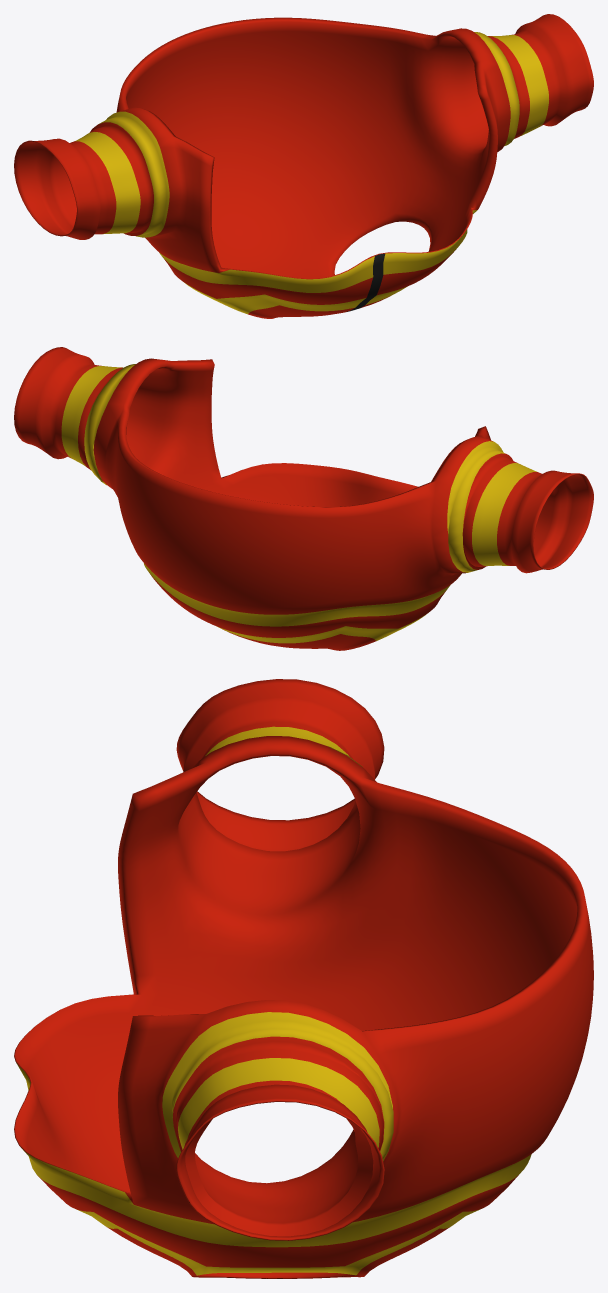
The model's file is fire_fighter_suit.fbx.
3 views of the same model, one above another, from view 1: azimuth 30°, elevation 25°; view 2: azimuth 150°, elevation 25°; view 3: azimuth 270°, elevation 25° (orthographic). The views are drawn at different scales.
Visible parts, largest first — view 1: Roundcube.001; view 2: Roundcube.001; view 3: Roundcube.001.
Part boxes in pixels (<box>): Roundcube.001: <box>14,14,593,318</box>; Roundcube.001: <box>14,347,593,650</box>; Roundcube.001: <box>14,679,593,1278</box>.
Bounding box in the file's own units: 331 × 138 × 192.
Materials: 1 (1 with a texture image).
